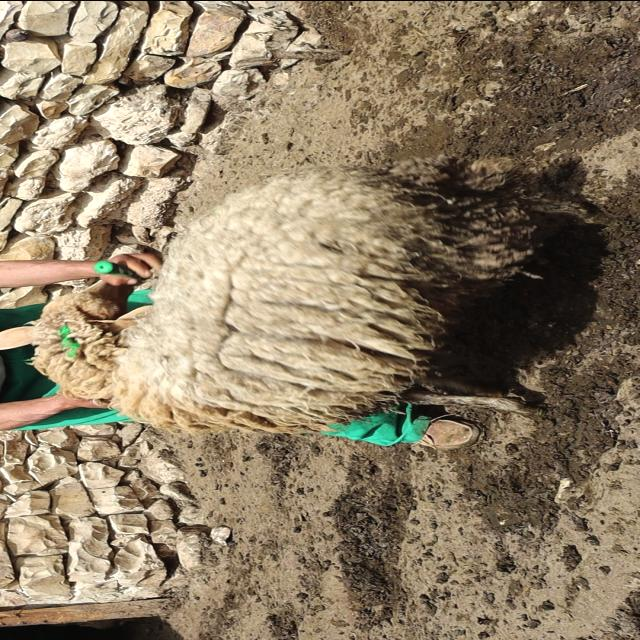Score_2: (29, 156, 589, 433)
